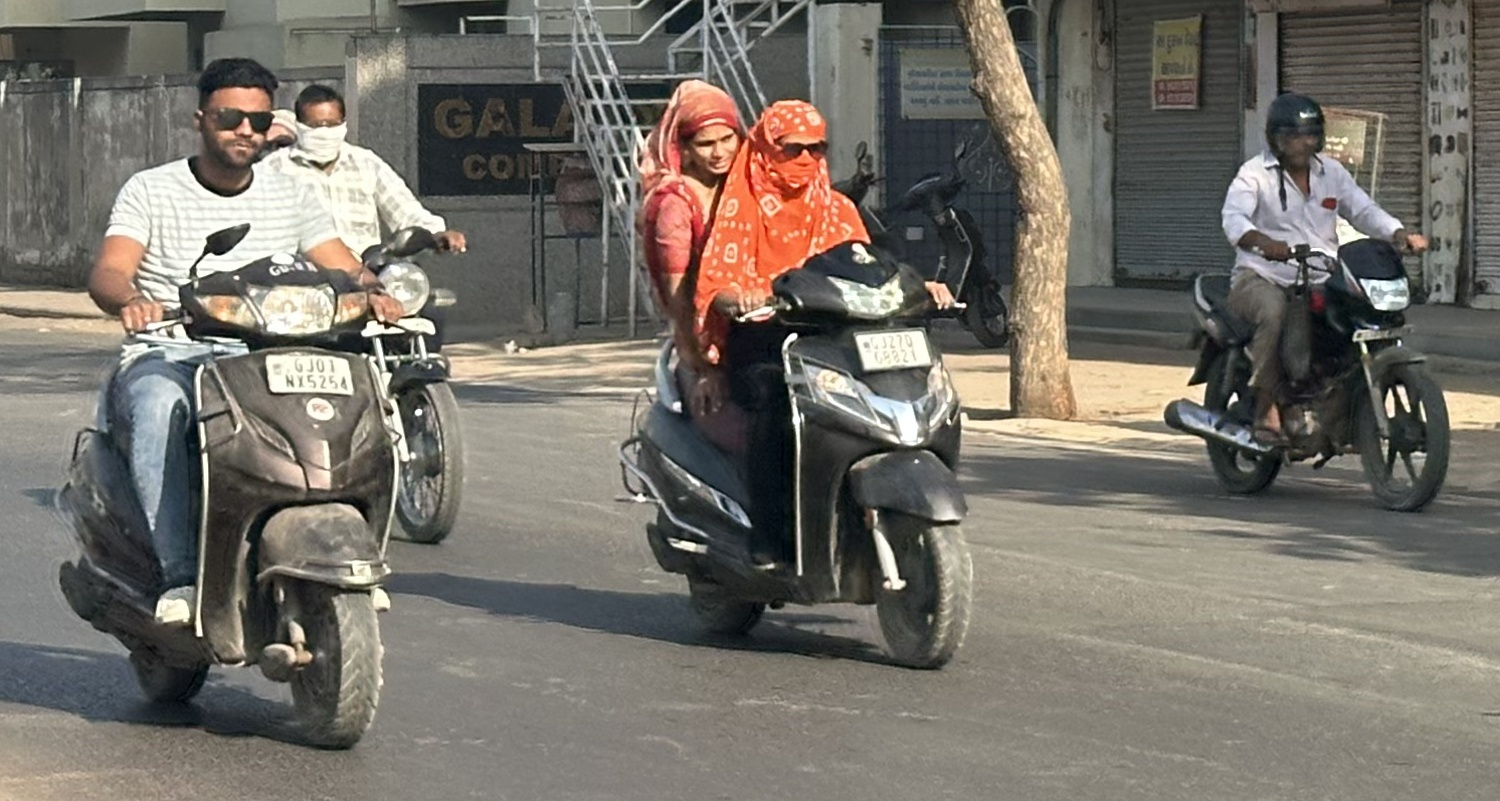BikeWithRider: (40, 51, 441, 760), (601, 66, 988, 676), (1152, 83, 1463, 520), (255, 73, 481, 553)
Helmet: (1251, 84, 1339, 174)
NoHelmet: (178, 50, 289, 173), (651, 74, 756, 188), (744, 91, 841, 197), (277, 75, 364, 165)
